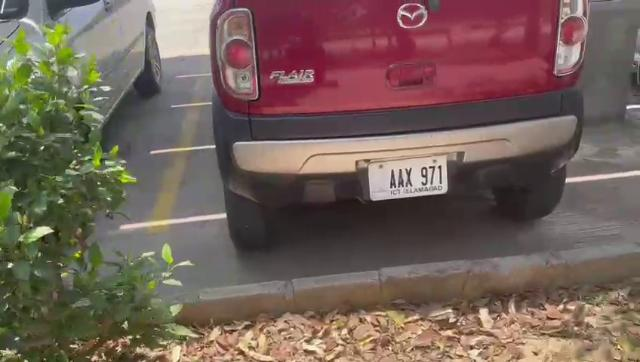plate: (367, 157, 447, 203)
